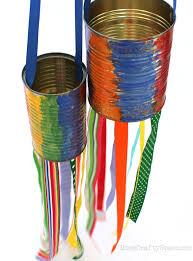Tin: (18, 0, 173, 167)
